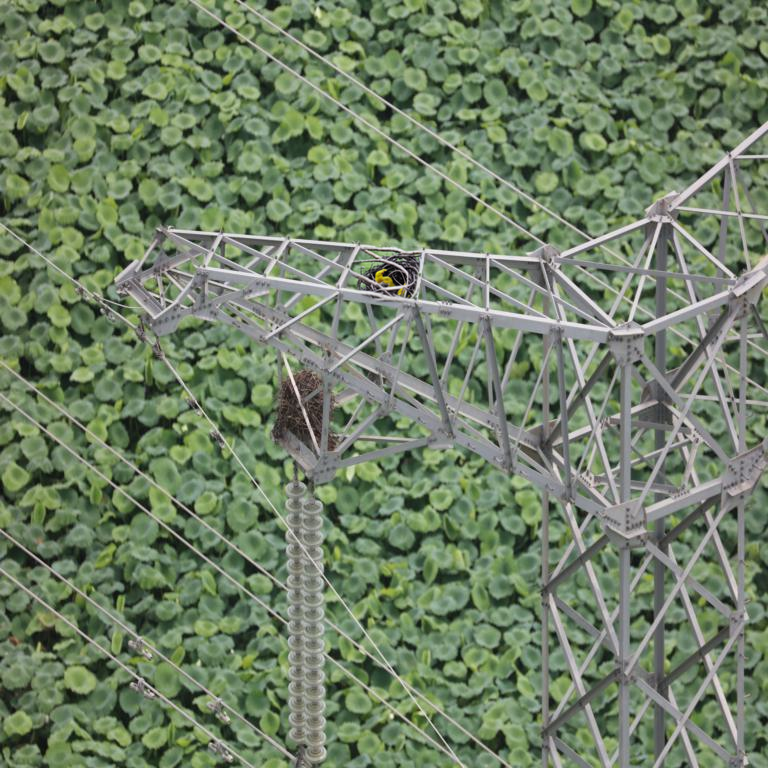nest: (282, 374, 335, 446), (364, 256, 418, 317)
